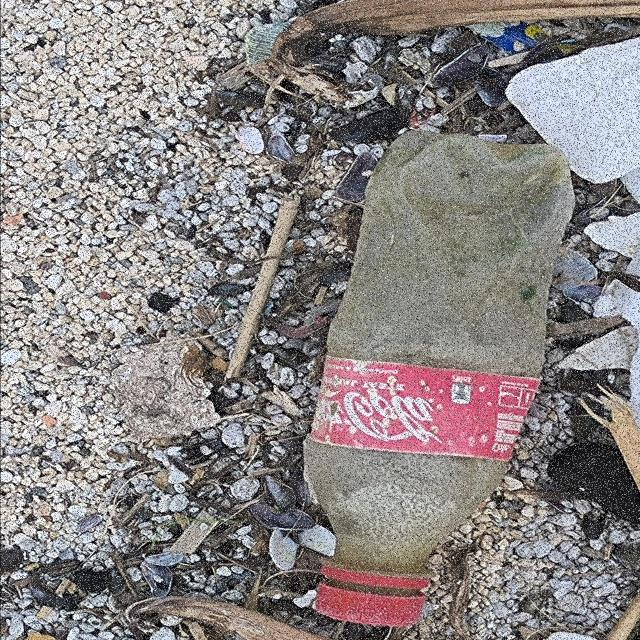plastic_waste: (301, 129, 578, 629)
styrofoam_waste: (503, 36, 640, 186)
